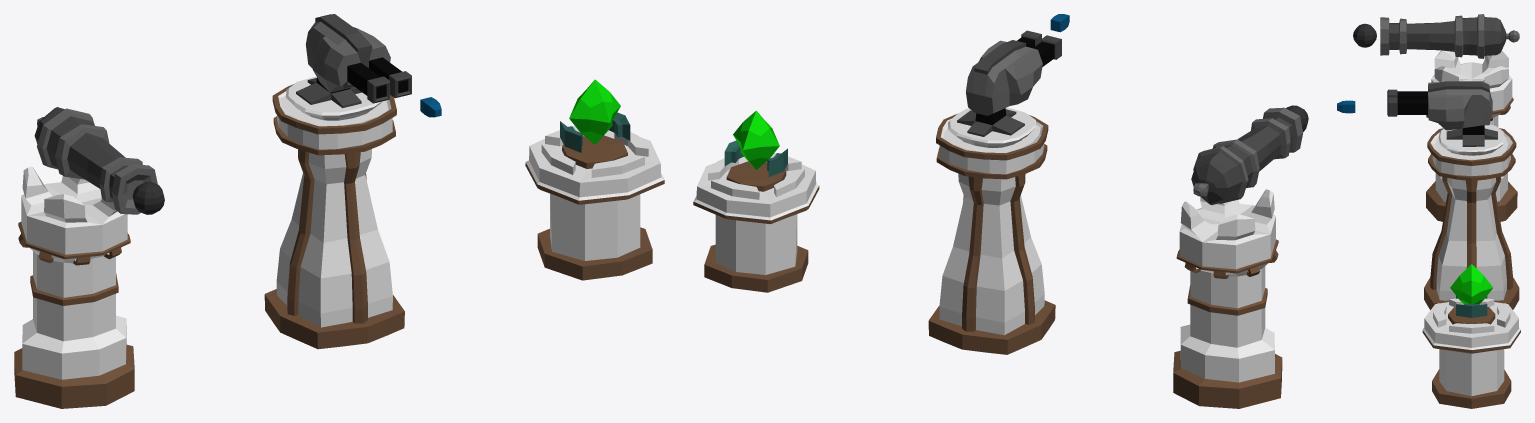
File: Battle Towers.fbx
The picture shows the model from 3 angles, left to right: view 1: azimuth 30°, elevation 25°; view 2: azimuth 150°, elevation 25°; view 3: azimuth 270°, elevation 25°; orthographic projection. The views are drawn at different scales.
Parts seen in each view (by area): view 1: Turret Tower, Cannon Tower, Cube, Cannon, Turret, Cube.002, Turret Base, Cube.001, Cannon Ball; view 2: Turret Tower, Cannon Tower, Cube, Cannon, Turret, Cube.002, Turret Base, Cube.001; view 3: Turret Tower, Cube, Cannon, Cannon Tower, Turret, Cube.002, Turret Base, Cannon Ball, Cube.001, Bullet.
Part boxes in pixels (x1,y1,x2,y2): Turret Tower: [264, 76, 404, 349]; Cannon Tower: [14, 166, 134, 408]; Cube: [525, 126, 664, 280]; Cannon: [34, 107, 157, 214]; Turret: [305, 14, 411, 103]; Cube.002: [569, 79, 620, 144]; Turret Base: [296, 77, 361, 108]; Cube.001: [560, 112, 630, 152]; Cannon Ball: [132, 181, 164, 214]; Turret Tower: [928, 107, 1055, 354]; Cannon Tower: [1173, 189, 1282, 408]; Cube: [693, 152, 819, 292]; Cannon: [1191, 107, 1302, 204]; Turret: [966, 30, 1061, 115]; Cube.002: [733, 110, 779, 169]; Turret Base: [957, 108, 1024, 136]; Cube.001: [724, 140, 787, 176]; Turret Tower: [1424, 124, 1519, 309]; Cube: [1422, 298, 1520, 408]; Cannon: [1380, 14, 1519, 58]; Cannon Tower: [1426, 50, 1517, 221]; Turret: [1387, 81, 1492, 130]; Cube.002: [1450, 264, 1493, 304]; Turret Base: [1446, 125, 1497, 146]; Cannon Ball: [1353, 23, 1376, 47]; Cube.001: [1456, 296, 1487, 317]; Bullet: [1337, 100, 1355, 113].
Size of the model in its own units: 490 by 219 by 169.
